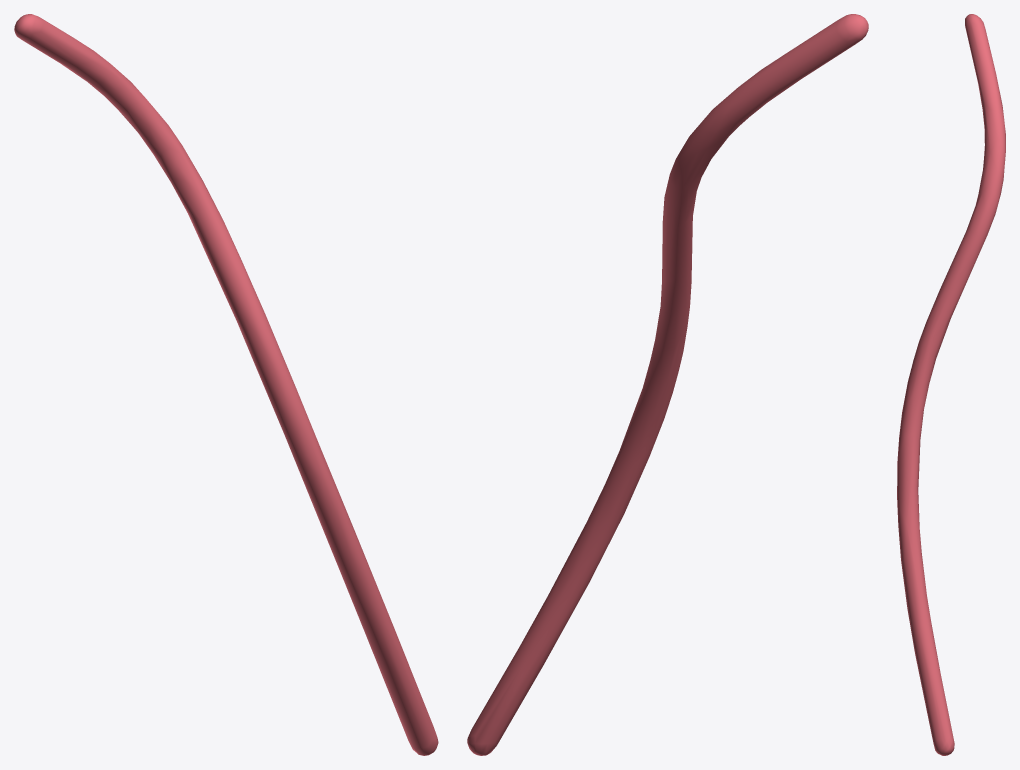
Rendered from fma22778_fj2314.glb.
3 renders of one model, left to right at view 1: azimuth 30°, elevation 25°; view 2: azimuth 150°, elevation 25°; view 3: azimuth 270°, elevation 25°, orthographic. The views are drawn at different scales.
Visible parts, largest first — view 1: FMA22778_FJ2314; view 2: FMA22778_FJ2314; view 3: FMA22778_FJ2314.
Boxes of the visible parts, bbox=[...] form: FMA22778_FJ2314: bbox=[14, 14, 438, 755]; FMA22778_FJ2314: bbox=[467, 14, 868, 755]; FMA22778_FJ2314: bbox=[897, 14, 1005, 755].
Bounding box in the file's own units: 0.0236 × 0.0458 × 0.00749.
